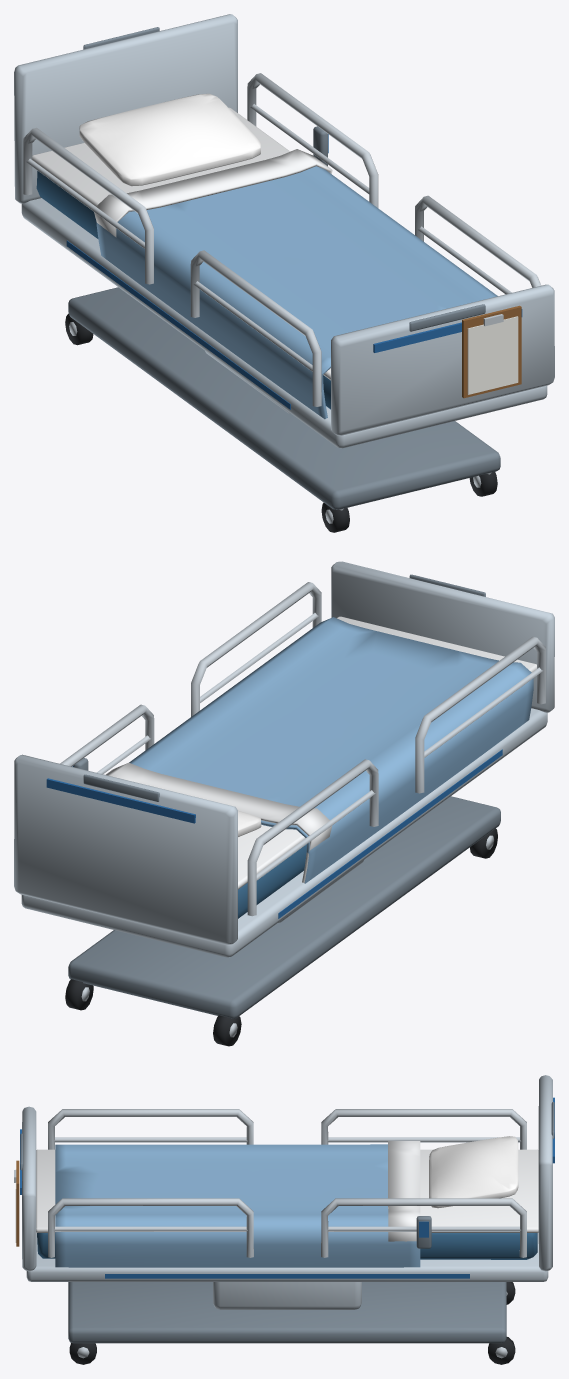
The model's file is bed.glb.
3 renders of one model, top to bottom at view 1: azimuth 30°, elevation 25°; view 2: azimuth 150°, elevation 25°; view 3: azimuth 270°, elevation 25°, orthographic. The views are drawn at different scales.
Parts seen in each view (by area): view 1: Main, Made; view 2: Main, Made; view 3: Main, Made.
Boxes of the visible parts, x1=… form: Main: x1=14, y1=14, x2=554, y2=532; Made: x1=94, y1=149, x2=497, y2=419; Main: x1=14, y1=561, x2=554, y2=1046; Made: x1=105, y1=617, x2=533, y2=883; Main: x1=14, y1=1075, x2=554, y2=1364; Made: x1=55, y1=1141, x2=420, y2=1267.
Size of the model in its own units: 0.916 by 0.9625 by 2.18.
